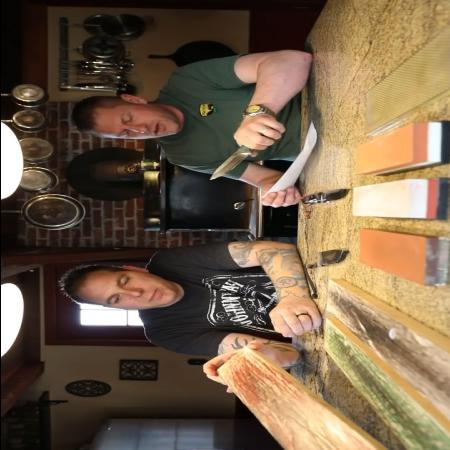long weapon: (201, 128, 281, 184)
